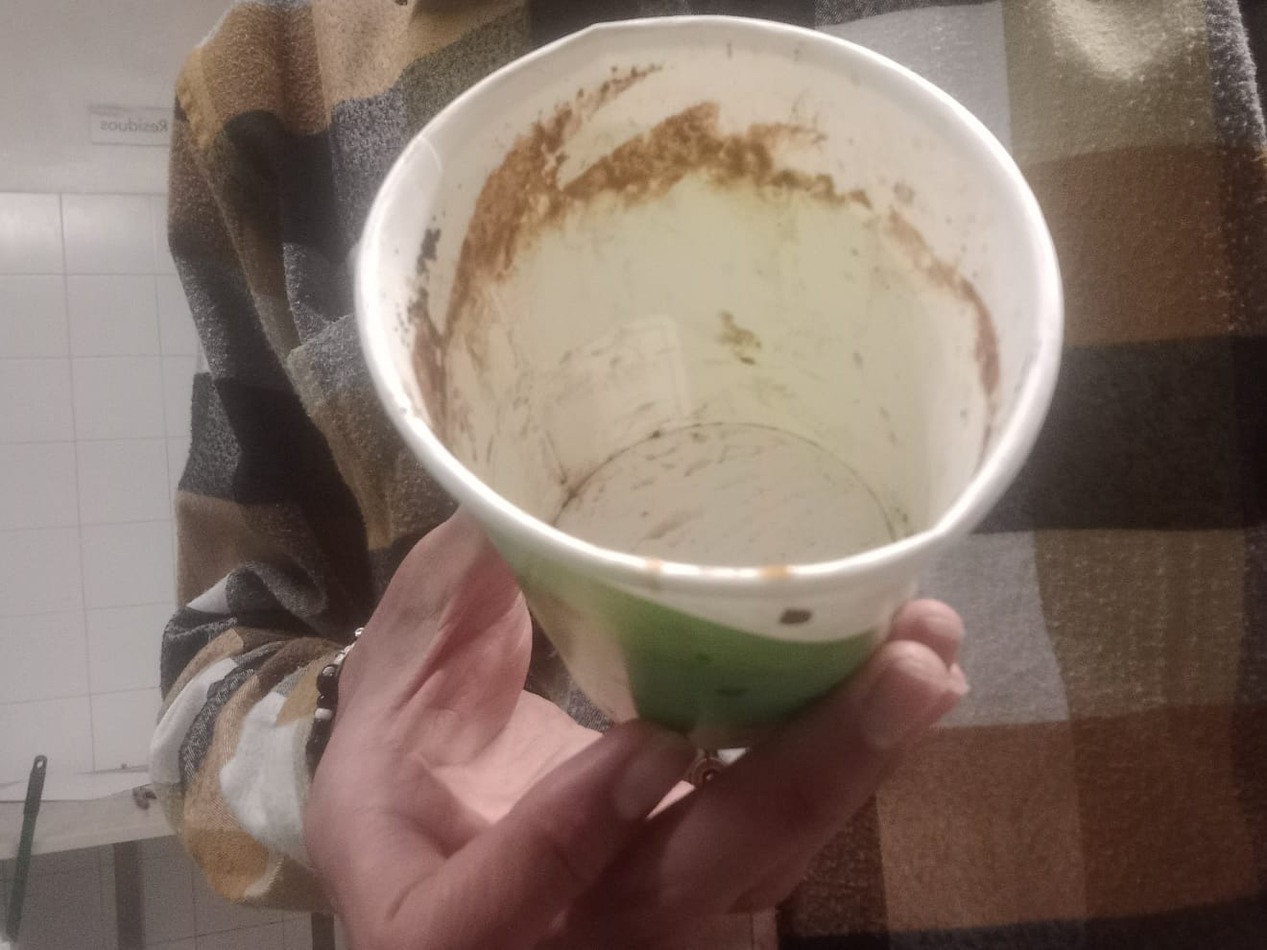Carton: (360, 16, 1064, 733)
